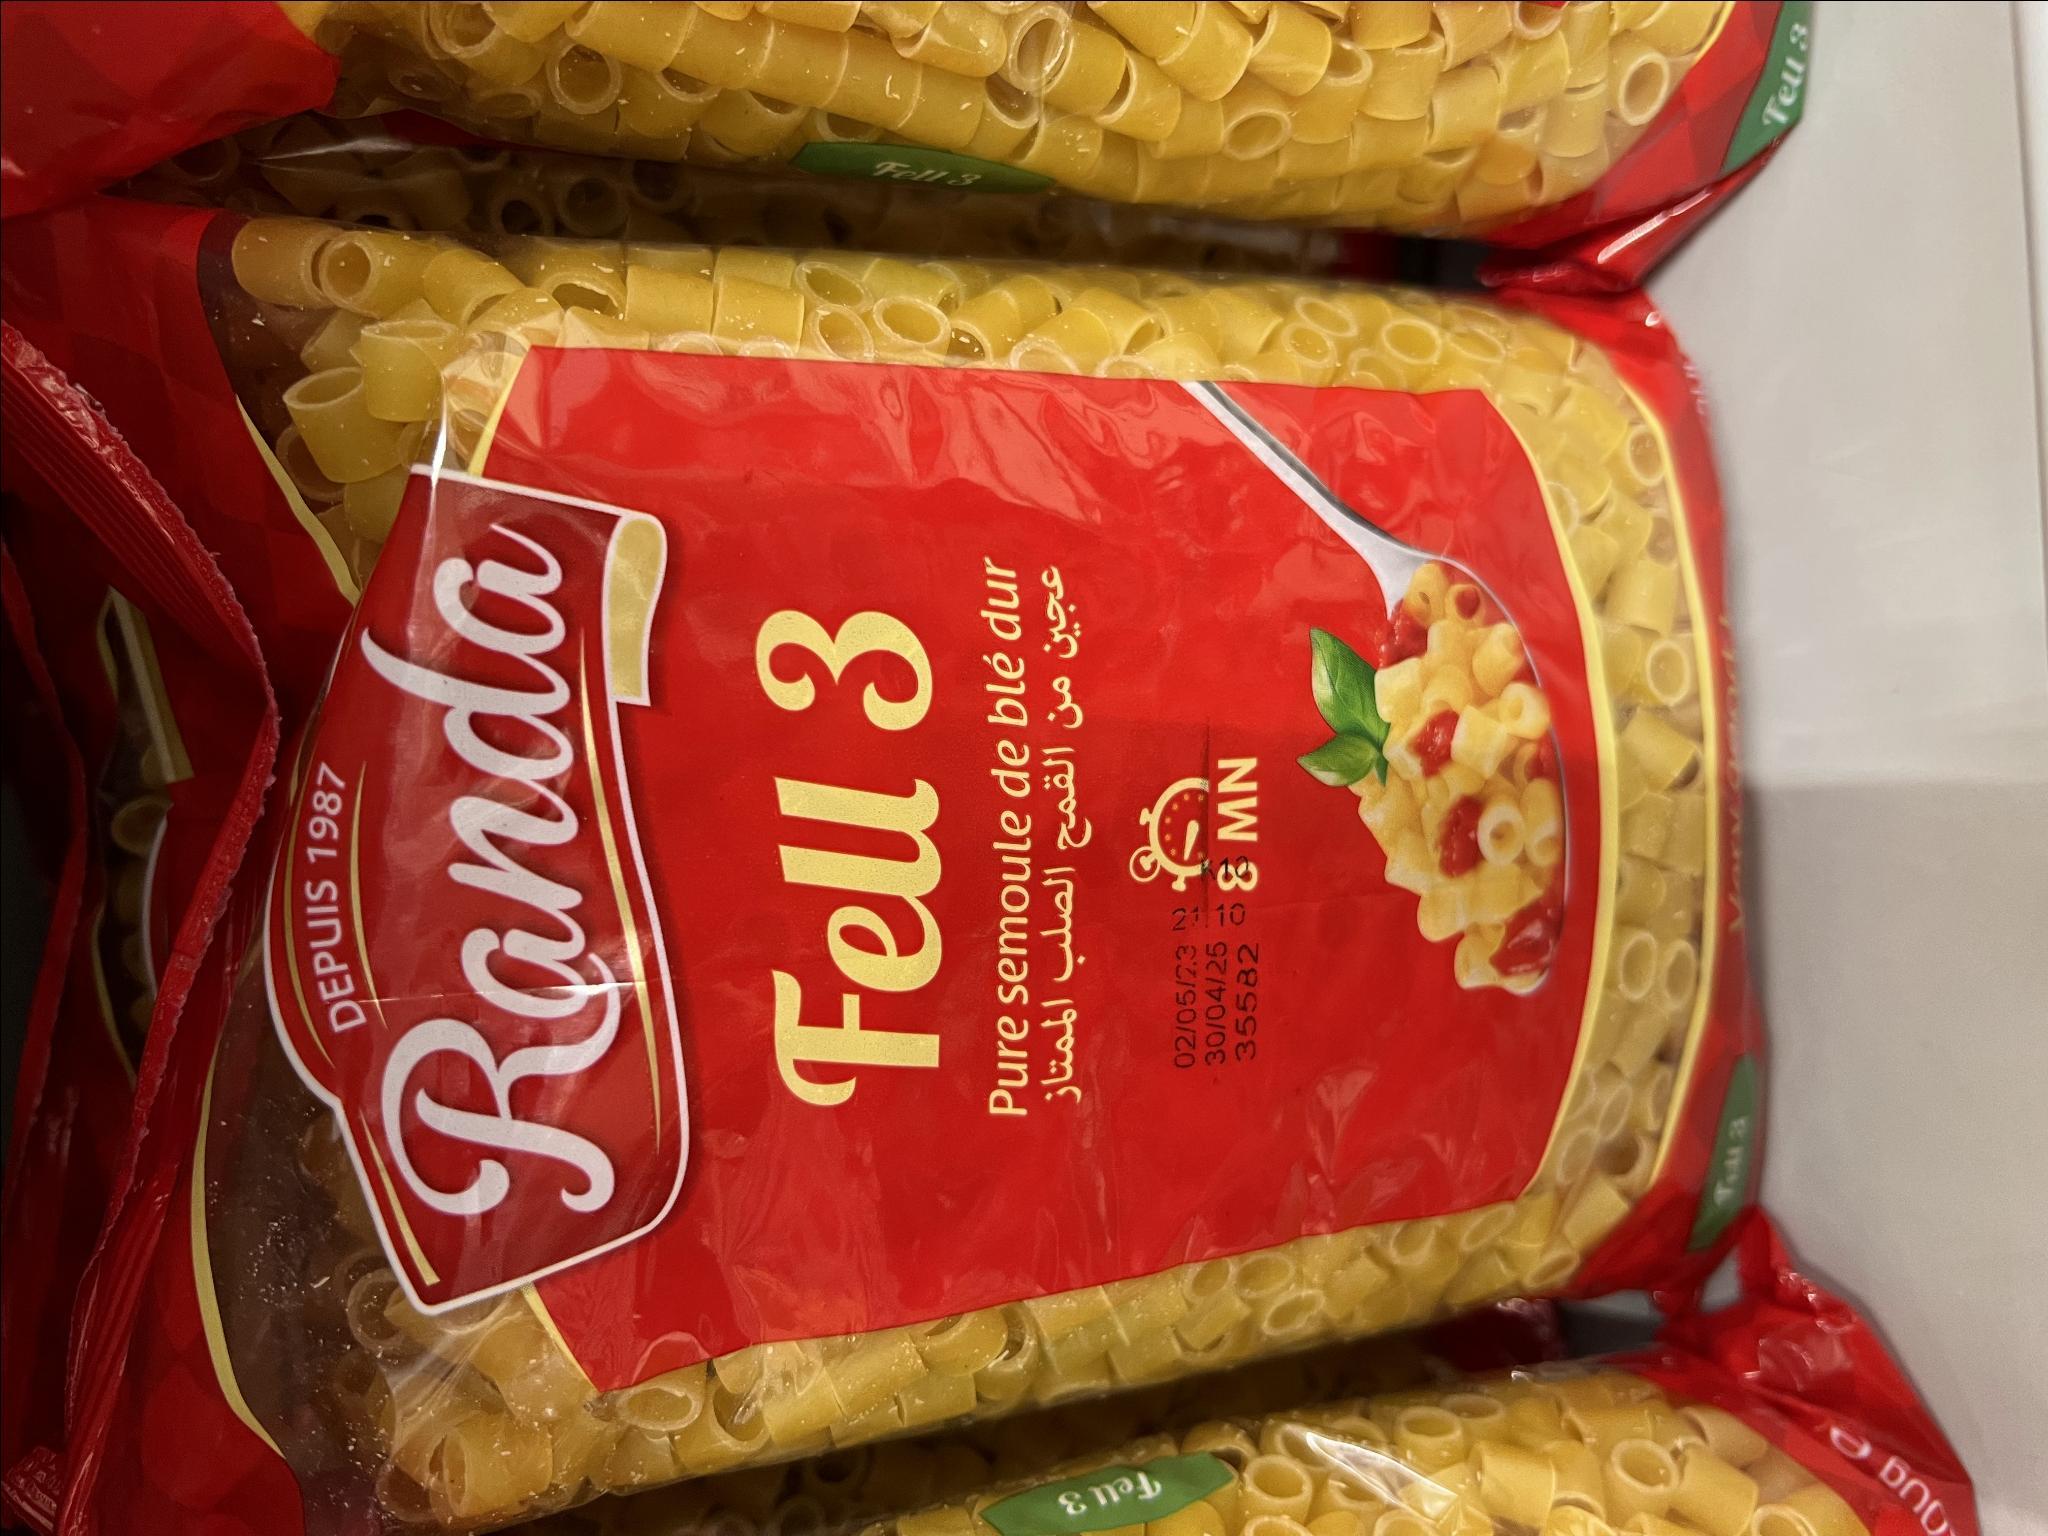Fell: (98, 257, 1748, 1526), (413, 0, 1775, 231), (906, 1281, 1946, 1536)
